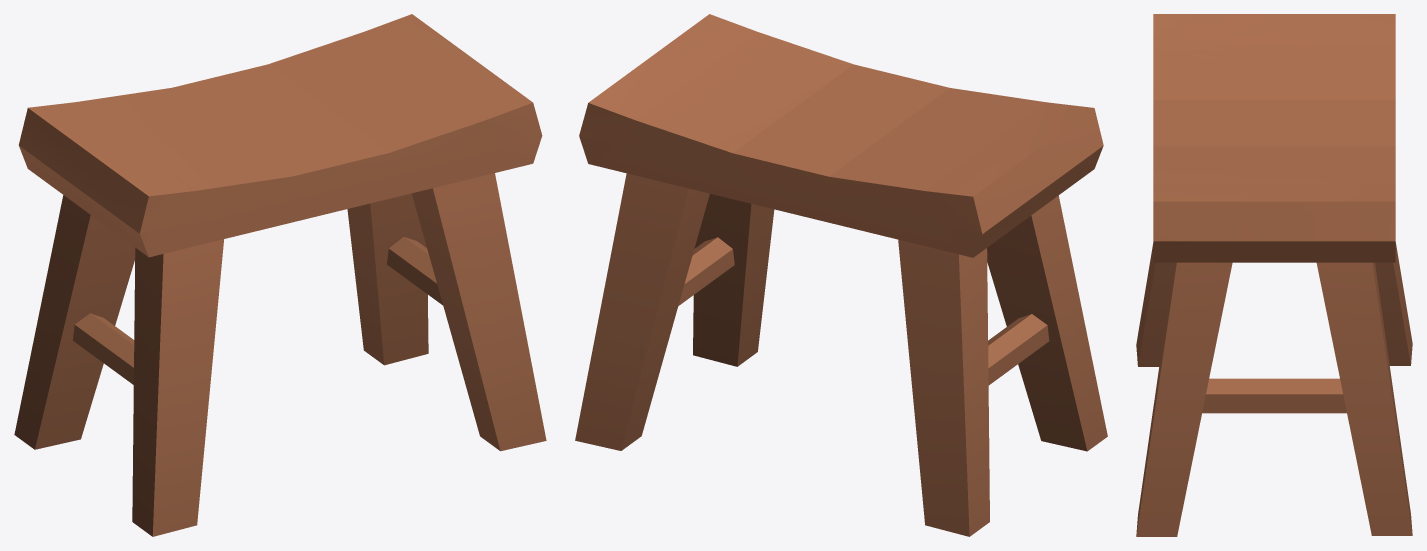
Rendered from fishing-chair.glb.
3 views of the same model, side by side, from view 1: azimuth 30°, elevation 25°; view 2: azimuth 150°, elevation 25°; view 3: azimuth 270°, elevation 25° (orthographic).
Parts seen in each view (by area): view 1: fishing chair; view 2: fishing chair; view 3: fishing chair.
Boxes of the visible parts, box(x1,y1,x2,y2) form: fishing chair: box(14, 14, 546, 536); fishing chair: box(575, 14, 1107, 536); fishing chair: box(1136, 14, 1412, 536).
Size of the model in its own units: 0.59 by 0.4665 by 0.3509.
1 material, 1 textured.
